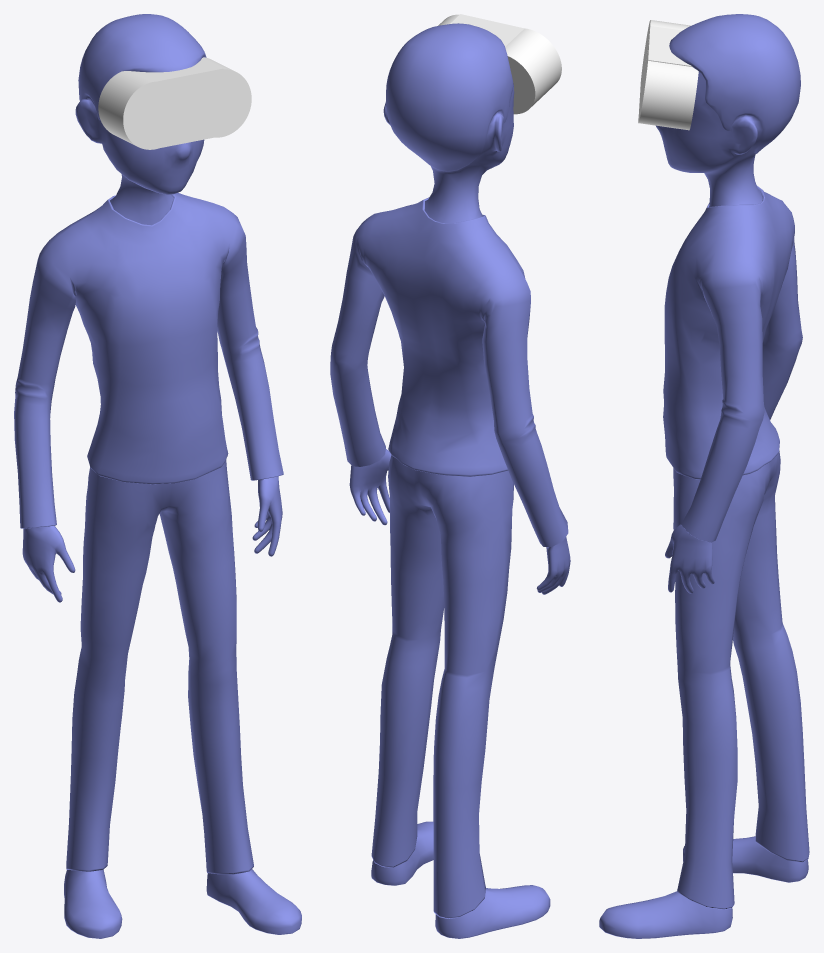
File: people.glb
3 renders of one model, left to right at view 1: azimuth 30°, elevation 25°; view 2: azimuth 150°, elevation 25°; view 3: azimuth 270°, elevation 25°, orthographic.
Visible parts, largest first — view 1: root_Material_59_0, root_Material_81_0, root_Material_84_0, root_Material_87_0; view 2: root_Material_59_0, root_Material_81_0, root_Material_87_0; view 3: root_Material_59_0, root_Material_84_0, root_Material_87_0.
Boxes of the visible parts, bbox=[...] form: root_Material_59_0: bbox=[14, 14, 301, 938]; root_Material_81_0: bbox=[98, 71, 184, 149]; root_Material_84_0: bbox=[189, 57, 251, 137]; root_Material_87_0: bbox=[137, 58, 223, 147]; root_Material_59_0: bbox=[330, 23, 570, 938]; root_Material_81_0: bbox=[505, 28, 561, 114]; root_Material_87_0: bbox=[450, 14, 524, 46]; root_Material_59_0: bbox=[599, 14, 809, 938]; root_Material_84_0: bbox=[638, 54, 698, 130]; root_Material_87_0: bbox=[639, 26, 692, 110].
Bounding box in the file's own units: 0.0801 × 0.2827 × 0.0619.
